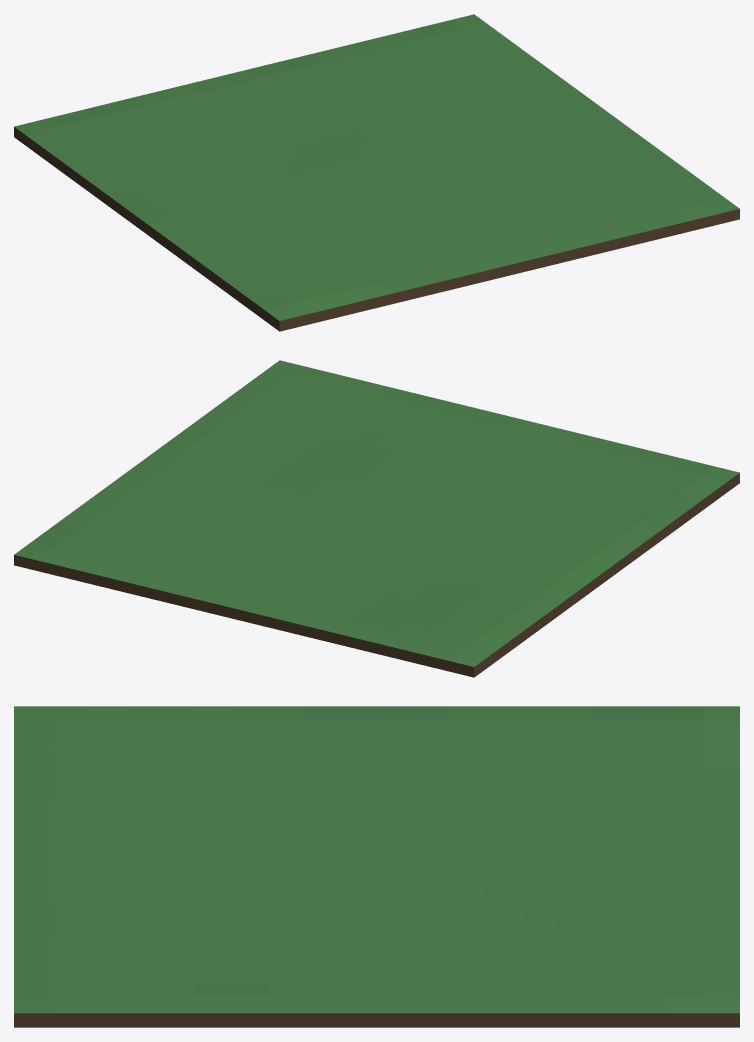
The model's file is ground.glb.
3 renders of one model, top to bottom at view 1: azimuth 30°, elevation 25°; view 2: azimuth 150°, elevation 25°; view 3: azimuth 270°, elevation 25°, orthographic. The views are drawn at different scales.
Parts seen in each view (by area): view 1: __exp_ground; view 2: __exp_ground; view 3: __exp_ground.
Boxes of the visible parts, bbox=[...] form: __exp_ground: bbox=[14, 14, 739, 331]; __exp_ground: bbox=[14, 360, 739, 677]; __exp_ground: bbox=[14, 706, 739, 1027].
Size of the model in its own units: 10 by 0.2792 by 10.
